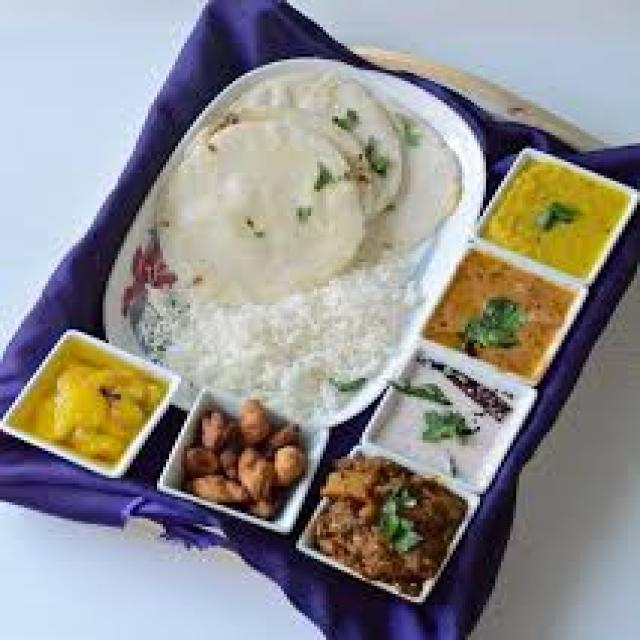dal: (486, 161, 624, 275)
sweet: (29, 344, 177, 470)
veg-fry: (305, 438, 473, 604), (165, 386, 321, 528), (422, 243, 580, 379)
